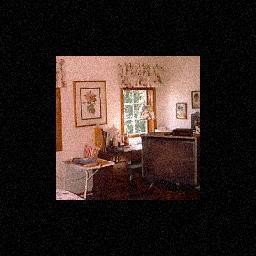Electrodomestico: (142, 133, 198, 188)
